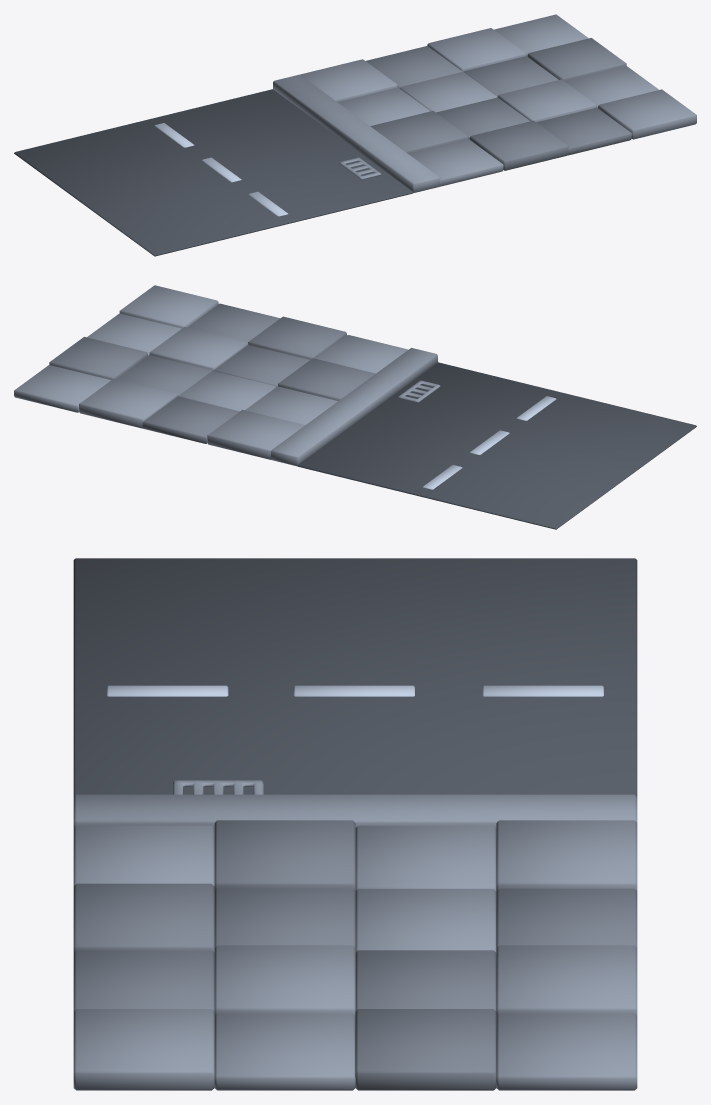
File: Pavement1.fbx
3 views of the same model, one above another, from view 1: azimuth 30°, elevation 25°; view 2: azimuth 150°, elevation 25°; view 3: azimuth 270°, elevation 25° (orthographic). The views are drawn at different scales.
Parts seen in each view (by area): view 1: Plane.002, Plane.048; view 2: Plane.002, Plane.048; view 3: Plane.002, Plane.048.
Part boxes in pixels (box(x1,y1,x2,y2)): Plane.002: box(273, 14, 696, 192); Plane.048: box(14, 89, 413, 256); Plane.002: box(14, 285, 437, 466); Plane.048: box(297, 362, 696, 529); Plane.002: box(73, 794, 637, 1090); Plane.048: box(73, 558, 637, 796).
Bounding box in the file's own units: 2607 × 47.81 × 1171.
